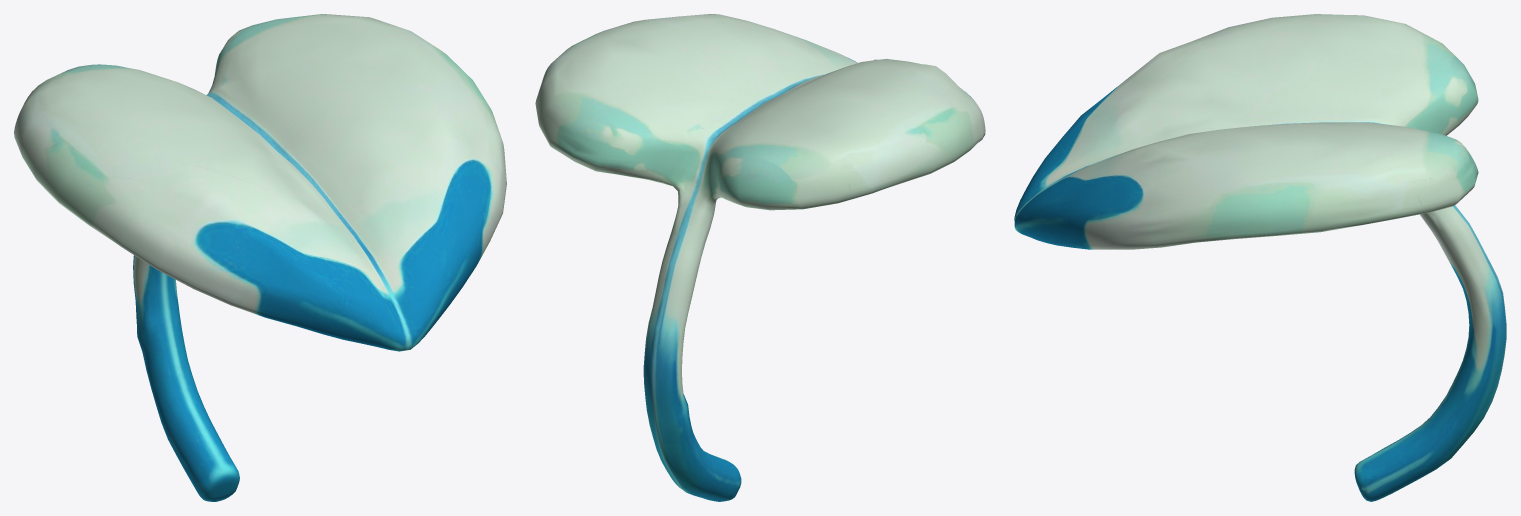
Rendered from heart_albo_2672_3_v1.glb.
3 renders of one model, left to right at view 1: azimuth 30°, elevation 25°; view 2: azimuth 150°, elevation 25°; view 3: azimuth 270°, elevation 25°, orthographic. The views are drawn at different scales.
Size of the model in its own units: 1.82 by 1.85 by 2.
1 material, 1 textured.
